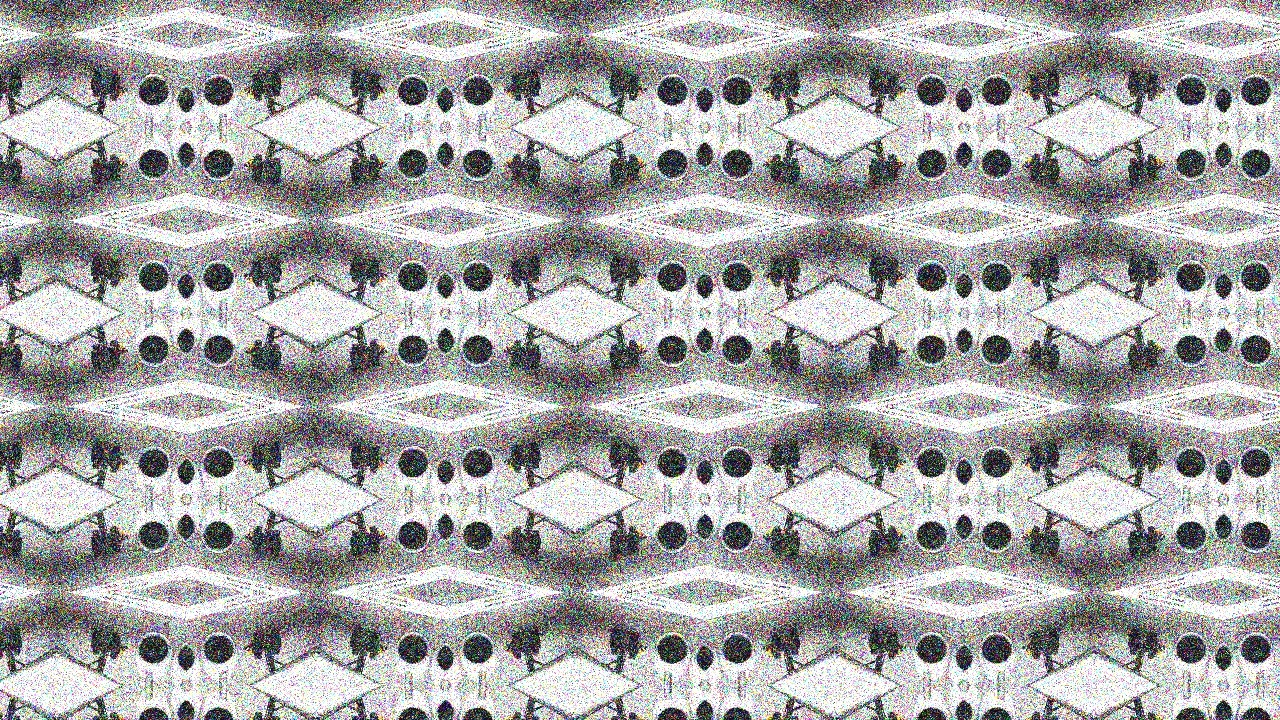chock: (114, 73, 120, 78), (250, 73, 256, 78), (374, 73, 380, 78), (510, 73, 516, 78), (634, 73, 640, 78), (770, 73, 776, 78), (894, 73, 900, 78), (1030, 73, 1036, 78), (1154, 73, 1160, 78), (114, 175, 120, 180), (250, 175, 256, 180), (374, 175, 380, 180), (510, 175, 516, 180), (634, 175, 640, 180), (770, 175, 776, 180), (894, 175, 900, 180), (1030, 175, 1036, 180), (1154, 175, 1160, 180), (114, 260, 120, 265), (250, 260, 256, 265), (374, 260, 380, 265), (510, 260, 516, 265), (634, 260, 640, 265), (770, 260, 776, 265), (894, 260, 900, 265), (1030, 260, 1036, 265), (1154, 260, 1160, 265), (114, 362, 120, 367), (250, 362, 256, 367), (374, 362, 380, 367), (510, 362, 516, 367), (634, 362, 640, 367), (770, 362, 776, 367), (894, 362, 900, 367), (1030, 362, 1036, 367), (1154, 362, 1160, 367), (114, 446, 120, 451), (250, 446, 256, 451), (374, 446, 380, 451), (510, 446, 516, 451), (634, 446, 640, 451), (770, 446, 776, 451), (894, 446, 900, 451), (1030, 446, 1036, 451), (1154, 446, 1160, 451), (114, 549, 120, 554), (250, 549, 256, 554), (374, 549, 380, 554), (510, 549, 516, 554), (634, 549, 640, 554), (770, 549, 776, 554), (894, 549, 900, 554), (1030, 549, 1036, 554), (1154, 549, 1160, 554), (114, 633, 120, 638), (250, 633, 256, 638), (374, 633, 380, 638), (510, 633, 516, 638), (634, 633, 640, 638), (770, 633, 776, 638), (894, 633, 900, 638), (1030, 633, 1036, 638), (1154, 633, 1160, 638)
wheel: (107, 73, 120, 96), (250, 73, 263, 96), (367, 73, 380, 96), (510, 73, 523, 96), (627, 73, 640, 96), (770, 73, 783, 96), (887, 73, 900, 96), (1030, 73, 1043, 96), (1147, 73, 1160, 96), (107, 344, 120, 367), (250, 344, 263, 367), (367, 344, 380, 367), (510, 344, 523, 367), (627, 344, 640, 367), (770, 344, 783, 367), (887, 344, 900, 367), (1030, 344, 1043, 367), (1147, 344, 1160, 367), (107, 633, 120, 656), (250, 633, 263, 656), (367, 633, 380, 656), (510, 633, 523, 656), (627, 633, 640, 656), (770, 633, 783, 656), (887, 633, 900, 656), (1030, 633, 1043, 656), (1147, 633, 1160, 656), (9, 162, 22, 184), (107, 158, 120, 180), (88, 162, 101, 184), (250, 158, 263, 180), (269, 162, 282, 184), (367, 158, 380, 180), (348, 162, 361, 184), (510, 158, 523, 180), (529, 162, 542, 184), (627, 158, 640, 180), (608, 162, 621, 184), (770, 158, 783, 180), (789, 162, 802, 184), (887, 158, 900, 180), (868, 162, 881, 184), (1030, 158, 1043, 180), (1049, 162, 1062, 184), (1147, 158, 1160, 180), (1128, 162, 1141, 184), (9, 256, 22, 278), (107, 260, 120, 282), (88, 256, 101, 278), (250, 260, 263, 282), (269, 256, 282, 278), (367, 260, 380, 282), (348, 256, 361, 278), (510, 260, 523, 282), (529, 256, 542, 278), (627, 260, 640, 282), (608, 256, 621, 278), (770, 260, 783, 282), (789, 256, 802, 278), (887, 260, 900, 282), (868, 256, 881, 278), (1030, 260, 1043, 282), (1049, 256, 1062, 278), (1147, 260, 1160, 282), (1128, 256, 1141, 278), (9, 443, 22, 465), (107, 447, 120, 469), (88, 443, 101, 465), (250, 447, 263, 469), (269, 443, 282, 465), (367, 447, 380, 469), (348, 443, 361, 465), (510, 447, 523, 469), (529, 443, 542, 465), (627, 447, 640, 469), (608, 443, 621, 465), (770, 447, 783, 469), (789, 443, 802, 465), (887, 447, 900, 469), (868, 443, 881, 465), (1030, 447, 1043, 469), (1049, 443, 1062, 465), (1147, 447, 1160, 469), (1128, 443, 1141, 465), (9, 535, 22, 557), (107, 531, 120, 553), (88, 535, 101, 557), (250, 531, 263, 553), (269, 535, 282, 557), (367, 531, 380, 553), (348, 535, 361, 557), (510, 531, 523, 553), (529, 535, 542, 557), (627, 531, 640, 553), (608, 535, 621, 557), (770, 531, 783, 553), (789, 535, 802, 557), (887, 531, 900, 553), (868, 535, 881, 557), (1030, 531, 1043, 553), (1049, 535, 1062, 557), (1147, 531, 1160, 553), (1128, 535, 1141, 557), (9, 70, 22, 91), (88, 70, 101, 91), (269, 70, 282, 91), (348, 70, 361, 91), (529, 70, 542, 91), (608, 70, 621, 91), (789, 70, 802, 91), (868, 70, 881, 91), (1049, 70, 1062, 91), (1128, 70, 1141, 91), (9, 349, 22, 370), (88, 349, 101, 370), (269, 349, 282, 370), (348, 349, 361, 370), (529, 349, 542, 370), (608, 349, 621, 370), (789, 349, 802, 370), (868, 349, 881, 370), (1049, 349, 1062, 370), (1128, 349, 1141, 370), (9, 630, 22, 651), (88, 630, 101, 651), (269, 630, 282, 651), (348, 630, 361, 651), (529, 630, 542, 651), (608, 630, 621, 651), (789, 630, 802, 651), (868, 630, 881, 651), (1049, 630, 1062, 651), (1128, 630, 1141, 651), (108, 454, 120, 475), (250, 454, 262, 475), (368, 454, 380, 475), (510, 454, 522, 475), (628, 454, 640, 475), (770, 454, 782, 475), (888, 454, 900, 475), (1030, 454, 1042, 475), (1148, 454, 1160, 475), (108, 525, 120, 546), (250, 525, 262, 546), (368, 525, 380, 546), (510, 525, 522, 546), (628, 525, 640, 546), (770, 525, 782, 546), (888, 525, 900, 546), (1030, 525, 1042, 546), (1148, 525, 1160, 546), (108, 81, 120, 101), (250, 81, 262, 101), (368, 81, 380, 101), (510, 81, 522, 101), (628, 81, 640, 101), (770, 81, 782, 101), (888, 81, 900, 101), (1030, 81, 1042, 101), (1148, 81, 1160, 101), (108, 152, 120, 172), (250, 152, 262, 172), (368, 152, 380, 172), (510, 152, 522, 172), (628, 152, 640, 172), (770, 152, 782, 172), (888, 152, 900, 172), (1030, 152, 1042, 172), (1148, 152, 1160, 172), (108, 268, 120, 288), (250, 268, 262, 288), (368, 268, 380, 288), (510, 268, 522, 288), (628, 268, 640, 288), (770, 268, 782, 288), (888, 268, 900, 288), (1030, 268, 1042, 288), (1148, 268, 1160, 288), (108, 339, 120, 359), (250, 339, 262, 359), (368, 339, 380, 359), (510, 339, 522, 359), (628, 339, 640, 359), (770, 339, 782, 359), (888, 339, 900, 359), (1030, 339, 1042, 359), (1148, 339, 1160, 359), (108, 641, 120, 661), (250, 641, 262, 661), (368, 641, 380, 661), (510, 641, 522, 661), (628, 641, 640, 661), (770, 641, 782, 661), (888, 641, 900, 661), (1030, 641, 1042, 661), (1148, 641, 1160, 661), (9, 156, 19, 170), (91, 156, 101, 170), (269, 156, 279, 170), (351, 156, 361, 170), (529, 156, 539, 170), (611, 156, 621, 170), (789, 156, 799, 170), (871, 156, 881, 170), (1049, 156, 1059, 170), (1131, 156, 1141, 170), (9, 270, 19, 284), (91, 270, 101, 284), (269, 270, 279, 284), (351, 270, 361, 284), (529, 270, 539, 284), (611, 270, 621, 284), (789, 270, 799, 284), (871, 270, 881, 284), (1049, 270, 1059, 284), (1131, 270, 1141, 284), (9, 457, 19, 471), (91, 457, 101, 471), (269, 457, 279, 471), (351, 457, 361, 471), (529, 457, 539, 471), (611, 457, 621, 471), (789, 457, 799, 471), (871, 457, 881, 471), (1049, 457, 1059, 471), (1131, 457, 1141, 471), (9, 529, 19, 543), (91, 529, 101, 543), (269, 529, 279, 543), (351, 529, 361, 543), (529, 529, 539, 543), (611, 529, 621, 543), (789, 529, 799, 543), (871, 529, 881, 543), (1049, 529, 1059, 543), (1131, 529, 1141, 543), (9, 84, 19, 97), (91, 84, 101, 97), (269, 84, 279, 97), (351, 84, 361, 97), (529, 84, 539, 97), (611, 84, 621, 97), (789, 84, 799, 97), (871, 84, 881, 97), (1049, 84, 1059, 97), (1131, 84, 1141, 97), (9, 343, 19, 356), (91, 343, 101, 356), (269, 343, 279, 356), (351, 343, 361, 356), (529, 343, 539, 356), (611, 343, 621, 356), (789, 343, 799, 356), (871, 343, 881, 356), (1049, 343, 1059, 356), (1131, 343, 1141, 356), (9, 644, 19, 657), (91, 644, 101, 657), (269, 644, 279, 657), (351, 644, 361, 657), (529, 644, 539, 657), (611, 644, 621, 657), (789, 644, 799, 657), (871, 644, 881, 657), (1049, 644, 1059, 657), (1131, 644, 1141, 657), (108, 712, 120, 720), (250, 712, 262, 720), (368, 712, 380, 720), (510, 712, 522, 720), (628, 712, 640, 720), (770, 712, 782, 720), (888, 712, 900, 720), (1030, 712, 1042, 720), (1148, 712, 1160, 720), (0, 73, 3, 96), (0, 344, 3, 367), (0, 633, 3, 656), (0, 158, 3, 180), (0, 260, 3, 282), (0, 447, 3, 469), (0, 531, 3, 553), (0, 454, 2, 475), (0, 525, 2, 546), (0, 81, 2, 101), (0, 152, 2, 172), (0, 268, 2, 288), (0, 339, 2, 359), (0, 641, 2, 661), (9, 716, 19, 720), (91, 716, 101, 720), (269, 716, 279, 720), (351, 716, 361, 720), (529, 716, 539, 720), (611, 716, 621, 720), (789, 716, 799, 720), (871, 716, 881, 720), (1049, 716, 1059, 720), (1131, 716, 1141, 720), (107, 718, 120, 720), (250, 718, 263, 720), (367, 718, 380, 720), (510, 718, 523, 720), (627, 718, 640, 720), (770, 718, 783, 720), (887, 718, 900, 720), (1030, 718, 1043, 720), (1147, 718, 1160, 720), (0, 712, 2, 720)
